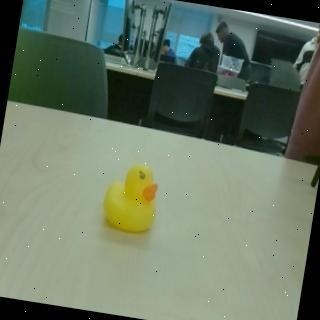duck_regular: (99, 159, 167, 239)
